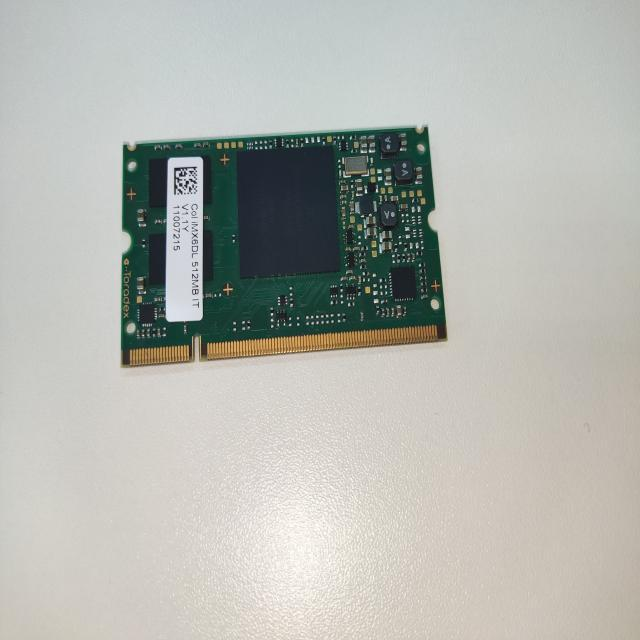som: (112, 122, 456, 367)
